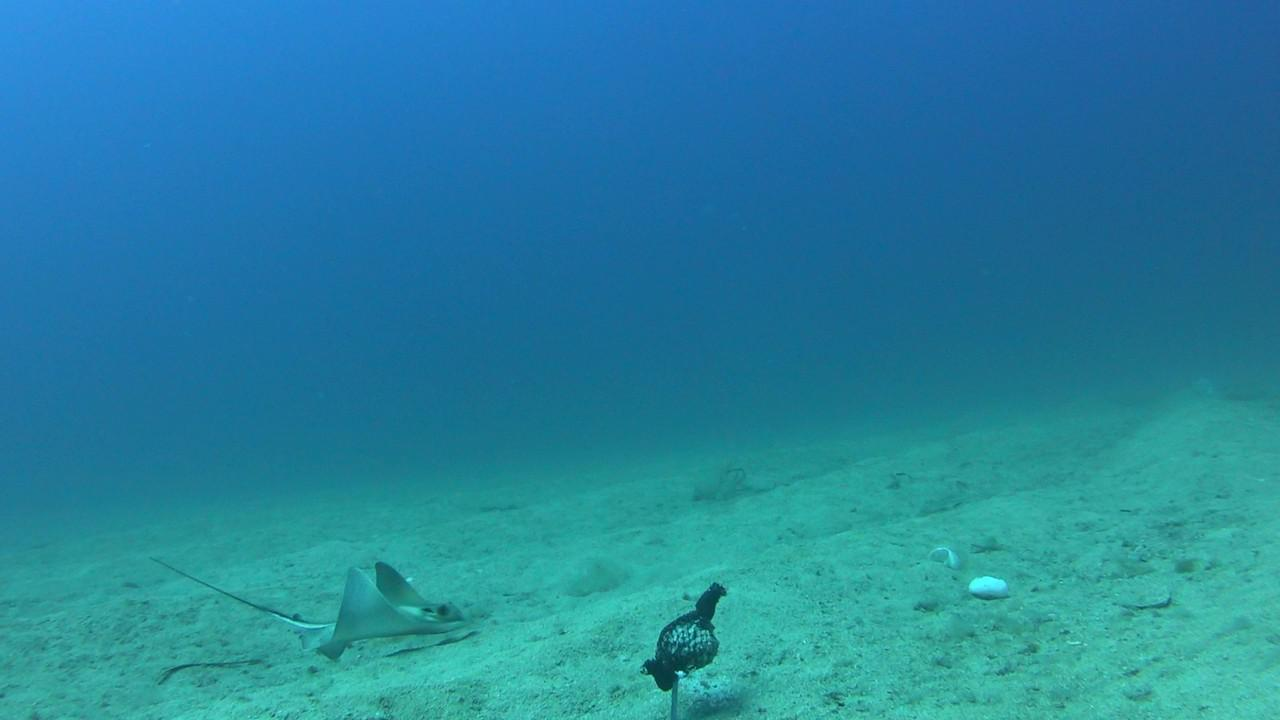myliobatis: (136, 539, 474, 667)
